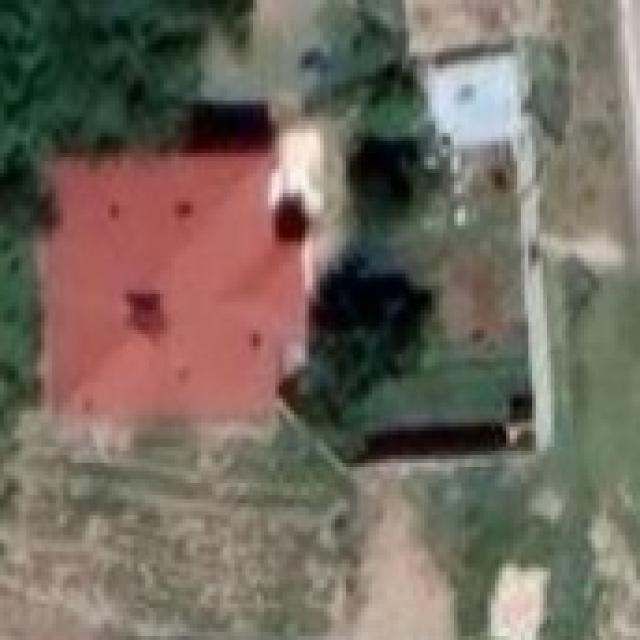Batiment: (39, 147, 308, 421)
